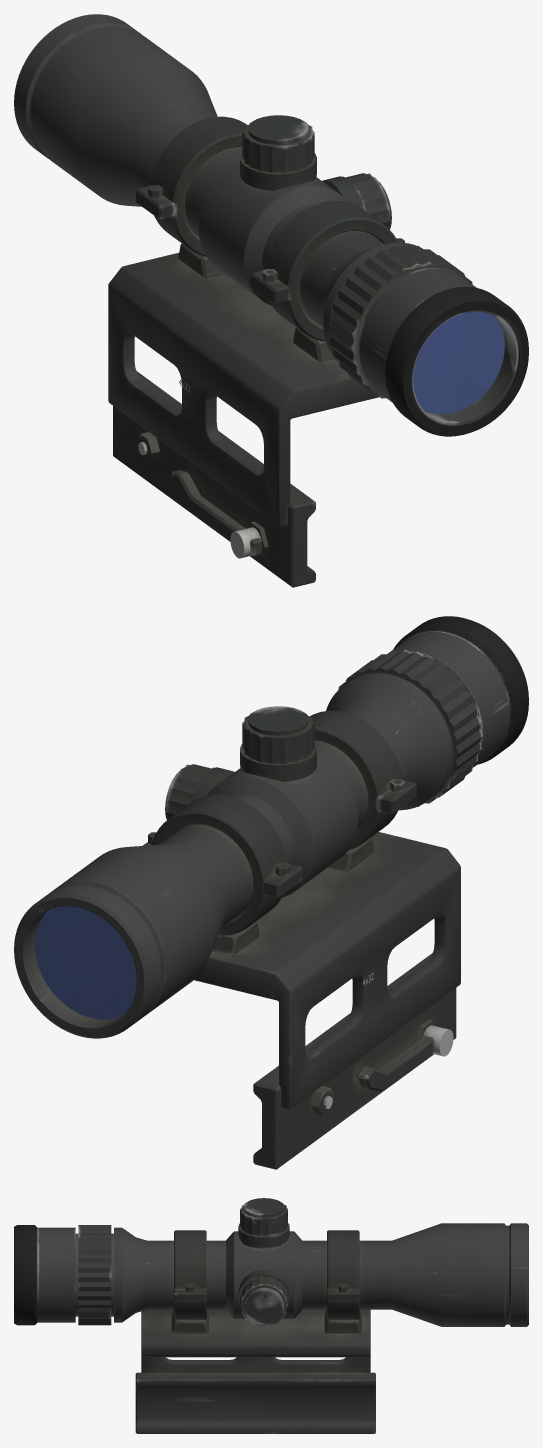
The model's file is luneta_lateral_ak.glb.
3 renders of one model, top to bottom at view 1: azimuth 30°, elevation 25°; view 2: azimuth 150°, elevation 25°; view 3: azimuth 270°, elevation 25°, orthographic. The views are drawn at different scales.
Visible parts, largest first — view 1: luneta_lateral_ak_luneta, luneta_lateral_ak_lente; view 2: luneta_lateral_ak_luneta, luneta_lateral_ak_lente; view 3: luneta_lateral_ak_luneta.
Boxes of the visible parts, box(x1,y1,x2,y2) form: luneta_lateral_ak_luneta: box(14, 14, 528, 587); luneta_lateral_ak_lente: box(413, 311, 504, 414); luneta_lateral_ak_luneta: box(14, 616, 528, 1169); luneta_lateral_ak_lente: box(35, 906, 136, 1019); luneta_lateral_ak_luneta: box(14, 1198, 528, 1433).
Bounding box in the file's own units: 0.0572 × 0.0997 × 0.1886.
1 material, 1 textured.
